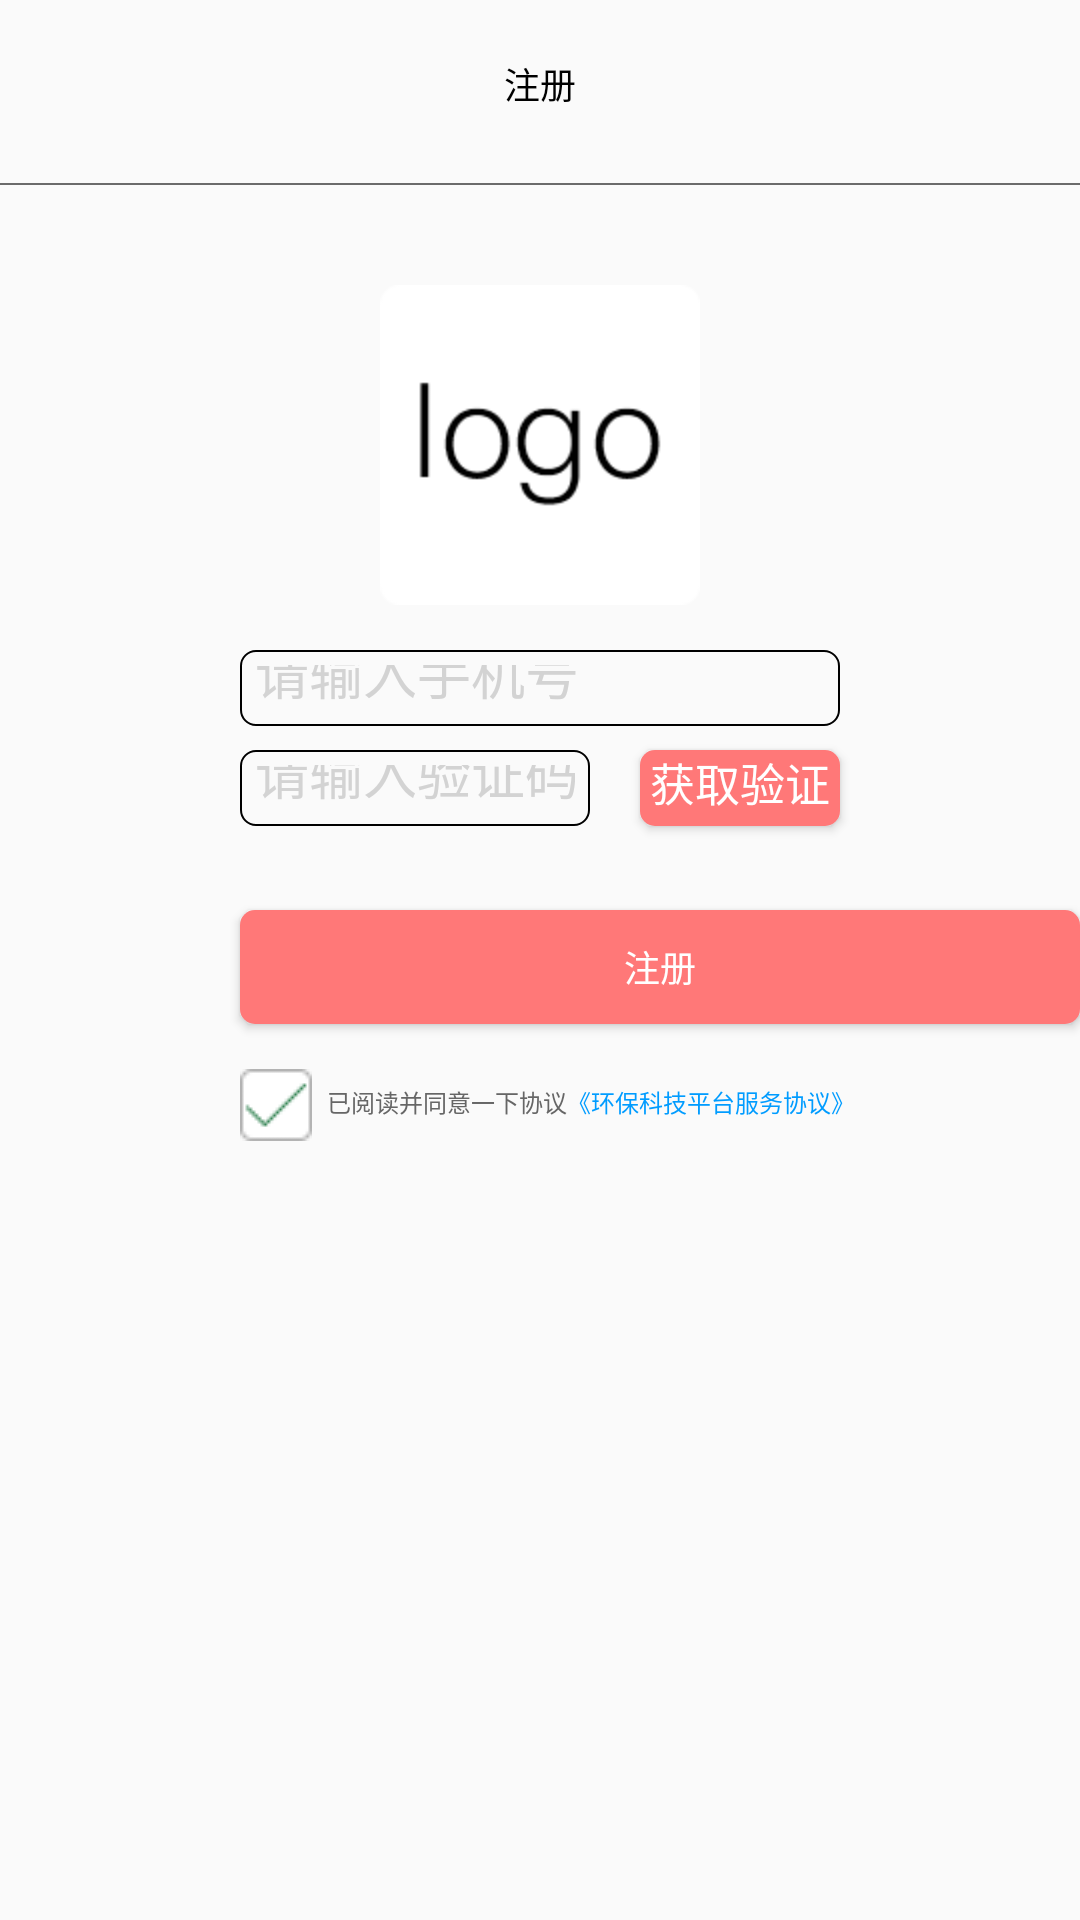

Icon click points for this 1080×1920 phone screenshot, format [x,y]:
checkbox sel: [276,1105]
